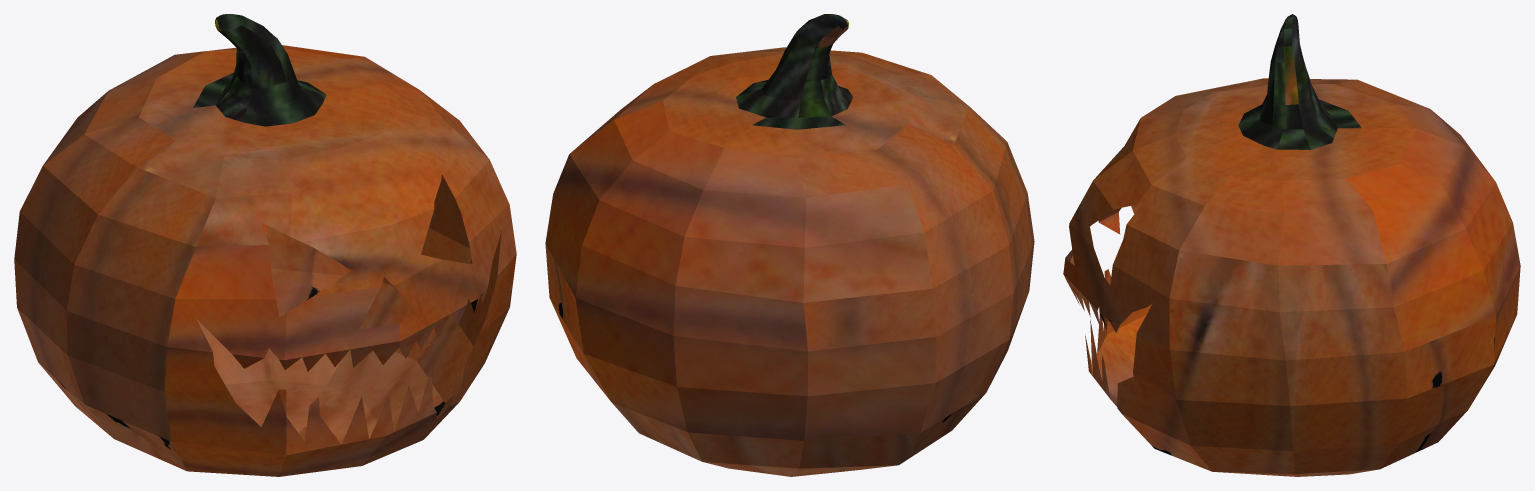
File: calabaza.glb
3 renders of one model, left to right at view 1: azimuth 30°, elevation 25°; view 2: azimuth 150°, elevation 25°; view 3: azimuth 270°, elevation 25°, orthographic. The views are drawn at different scales.
Visible parts, largest first — view 1: RetopoFlow; view 2: RetopoFlow; view 3: RetopoFlow.
Boxes of the visible parts, left/top/right/bottom form: RetopoFlow: left=14, top=14, right=516, bottom=476; RetopoFlow: left=545, top=14, right=1034, bottom=476; RetopoFlow: left=1063, top=14, right=1520, bottom=476.
Size of the model in its own units: 0.983 by 0.9568 by 0.9875.
Materials: 1 (1 with a texture image).
